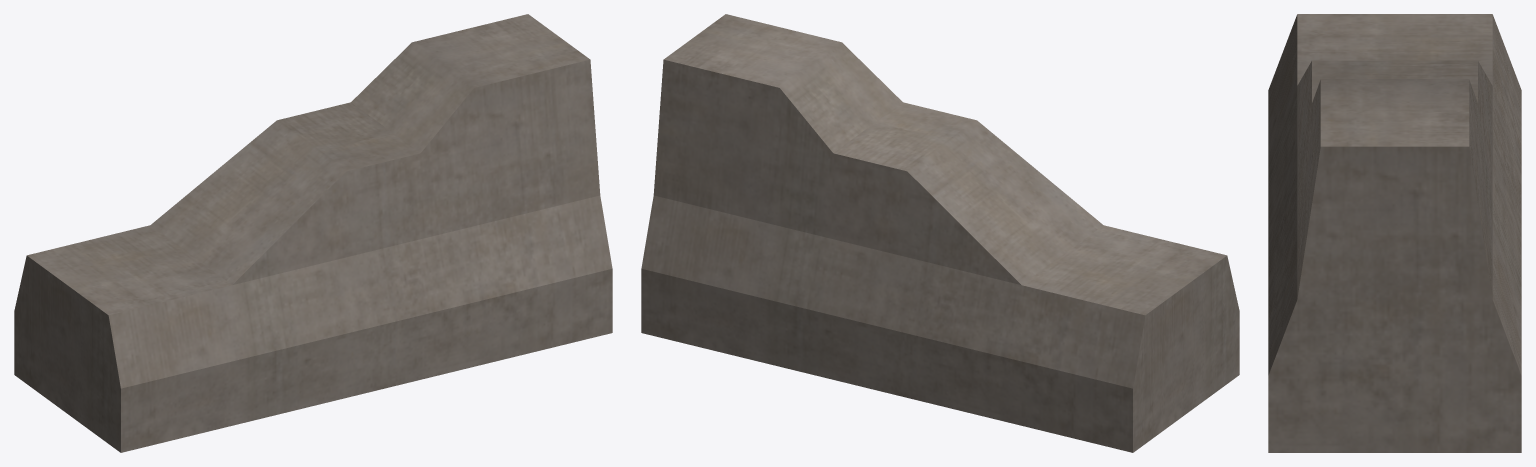
Rendered from detailBarrierStrong_damaged.fbx.
3 views of the same model, side by side, from view 1: azimuth 30°, elevation 25°; view 2: azimuth 150°, elevation 25°; view 3: azimuth 270°, elevation 25° (orthographic). The views are drawn at different scales.
Visible parts, largest first — view 1: detailBarrierStrong_damaged; view 2: detailBarrierStrong_damaged; view 3: detailBarrierStrong_damaged.
Part boxes in pixels (bbox=[...]): detailBarrierStrong_damaged: bbox=[14, 14, 612, 452]; detailBarrierStrong_damaged: bbox=[641, 14, 1239, 452]; detailBarrierStrong_damaged: bbox=[1268, 14, 1521, 452].
Bounding box in the file's own units: 6.64 × 3.32 × 2.49.
